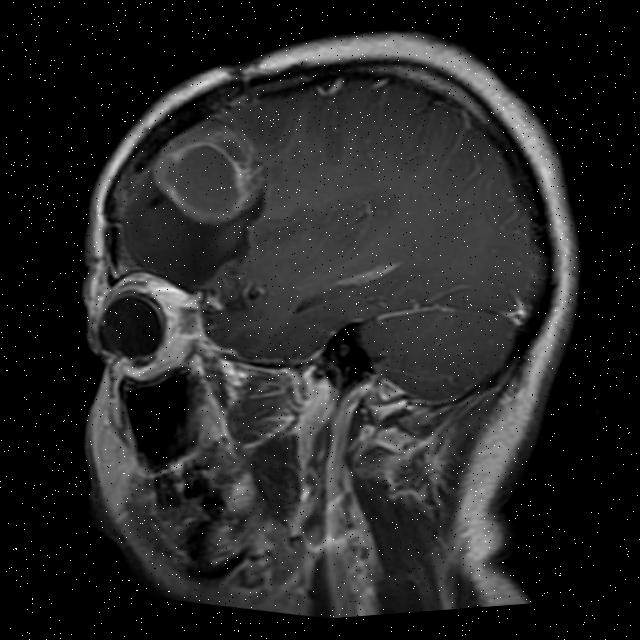Glioma: (140, 106, 274, 237)
